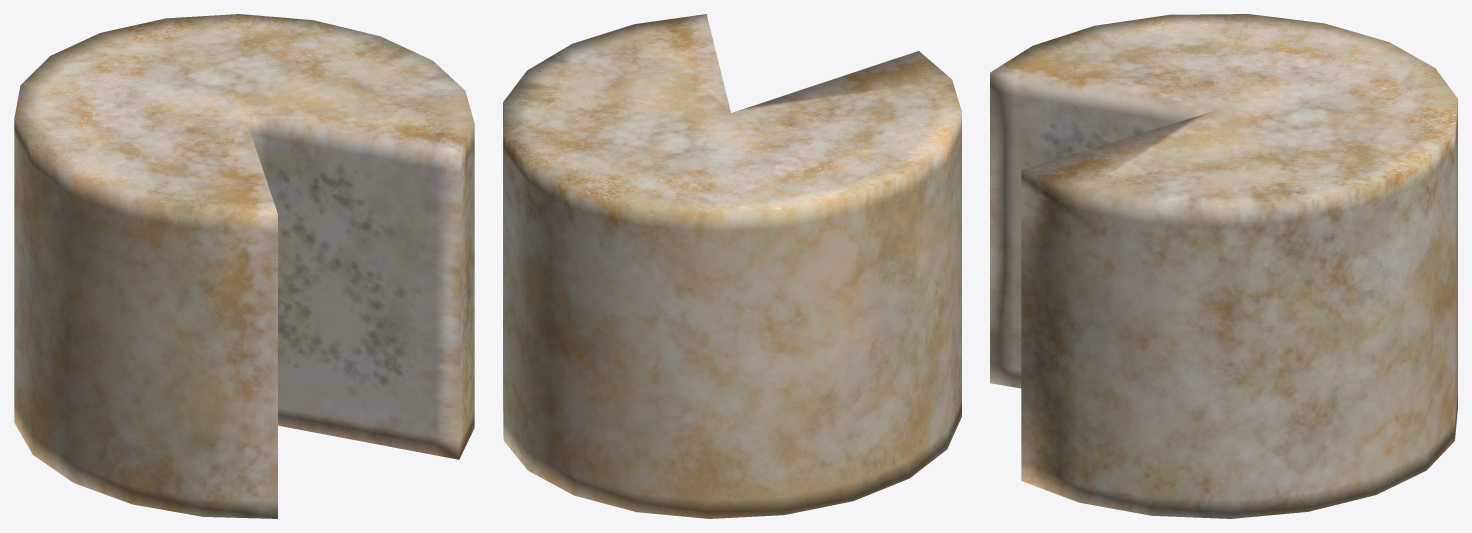
Rendered from brie.glb.
3 renders of one model, left to right at view 1: azimuth 30°, elevation 25°; view 2: azimuth 150°, elevation 25°; view 3: azimuth 270°, elevation 25°, orthographic.
Parts seen in each view (by area): view 1: cheese02_low; view 2: cheese02_low; view 3: cheese02_low.
Boxes of the visible parts, box(x1,y1,x2,y2) form: cheese02_low: box(14, 14, 474, 518); cheese02_low: box(503, 14, 961, 518); cheese02_low: box(990, 14, 1457, 518).
Bounding box in the file's own units: 13.01 × 9.69 × 13.23.
Materials: 1 (1 with a texture image).
